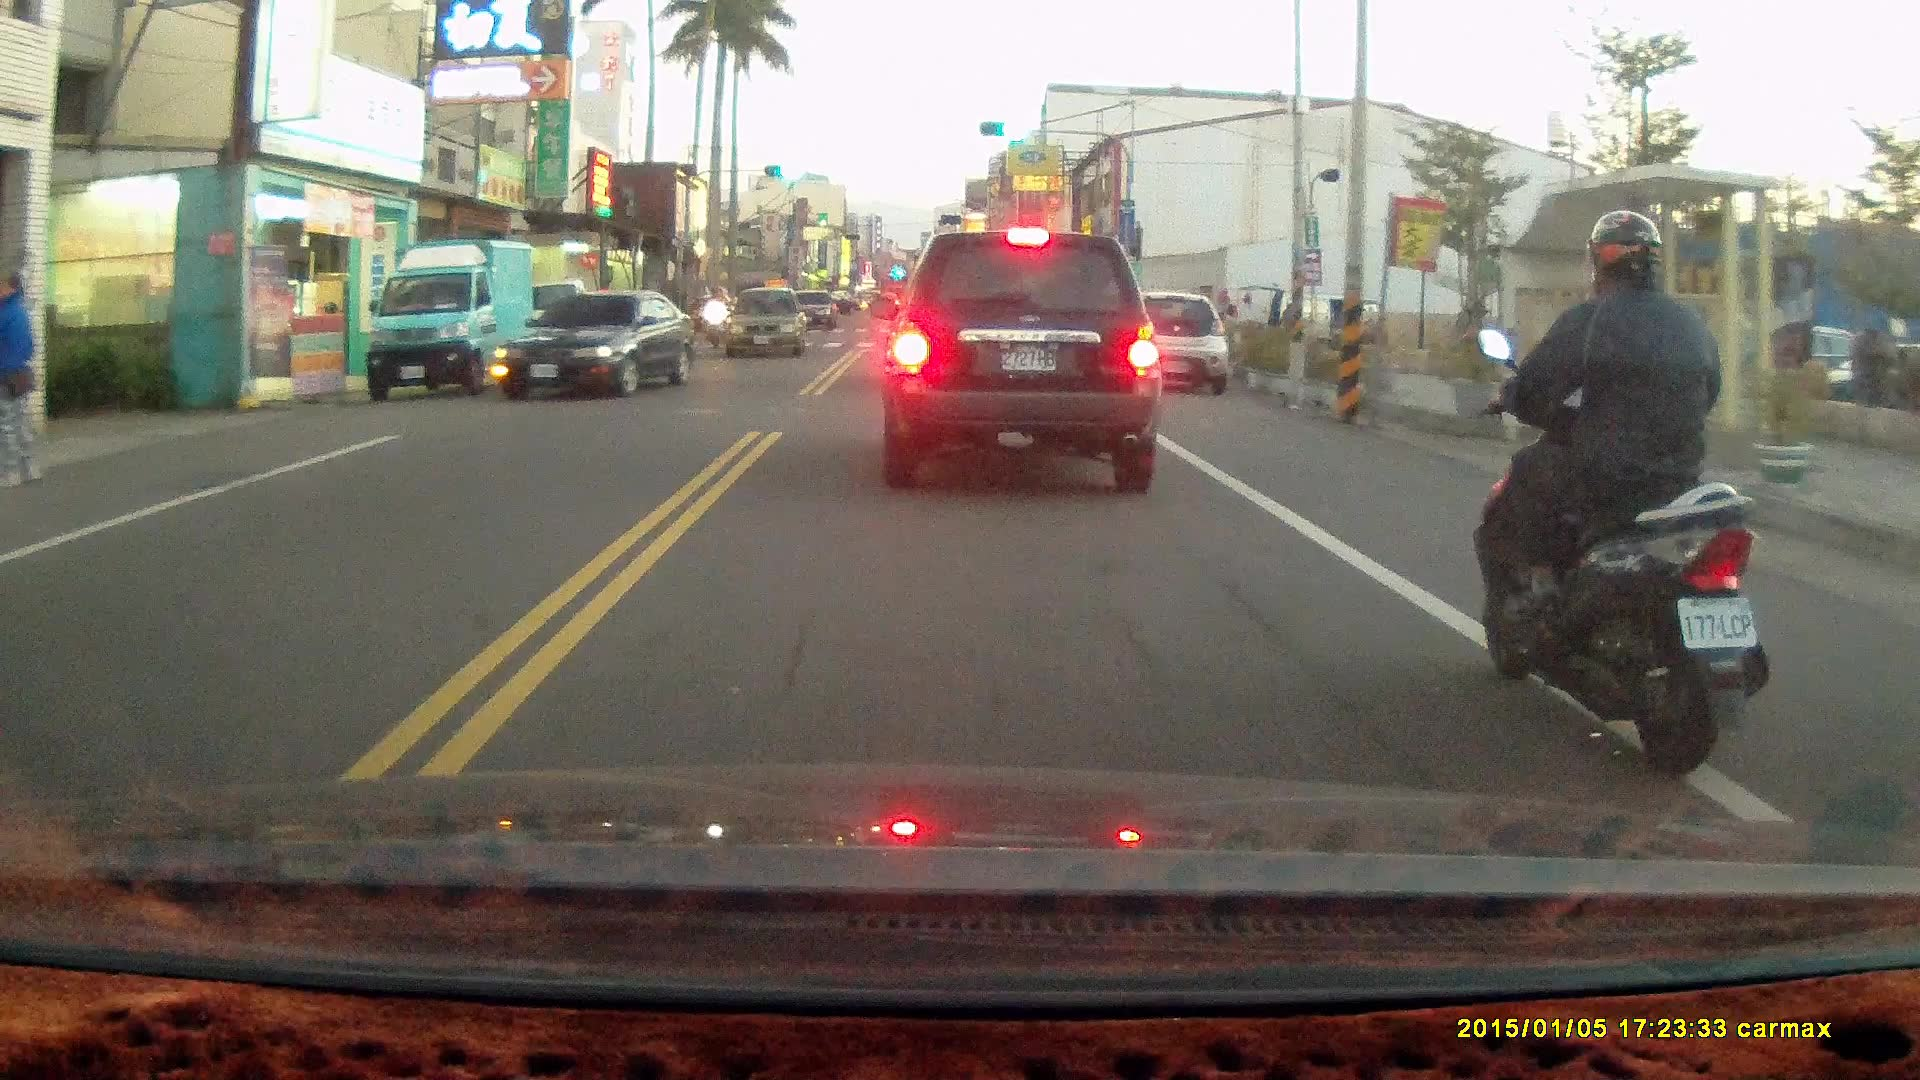pedestrian: (0, 267, 42, 491)
rider: (1469, 206, 1768, 776), (702, 283, 732, 349)
vehicle: (877, 229, 1163, 497), (362, 236, 537, 403), (496, 290, 699, 399), (1119, 289, 1233, 398), (723, 287, 811, 363)
